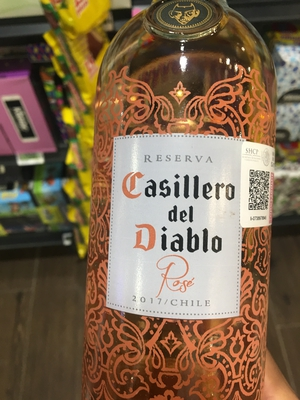casillero del diablo rose: (73, 1, 278, 400)
